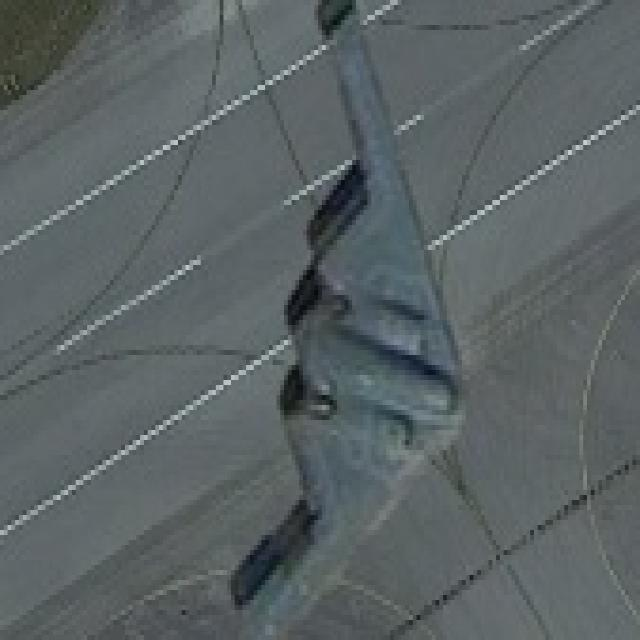B-2_TopDown: (220, 0, 473, 620)
